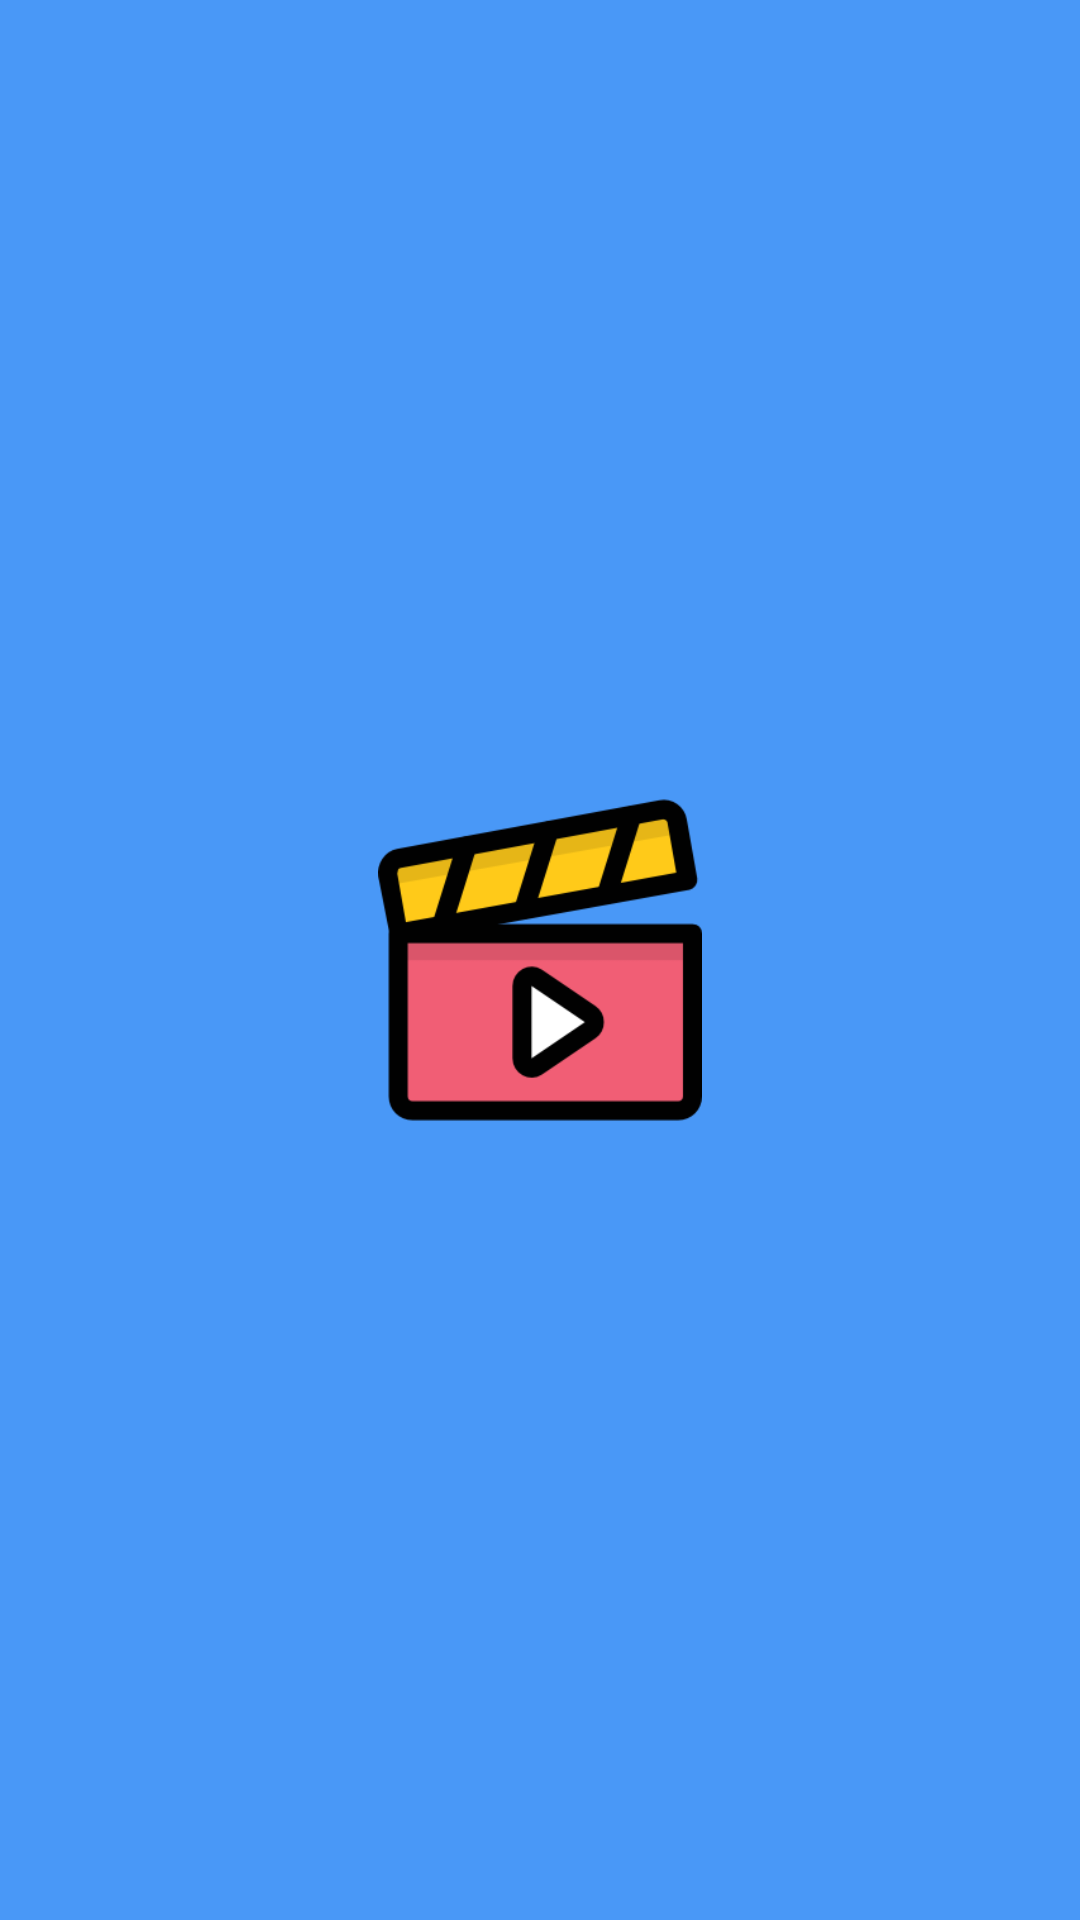

Screen size 1080*1920. Icon name, then its center in pixels as [x,y]:
video player: [540,960]
